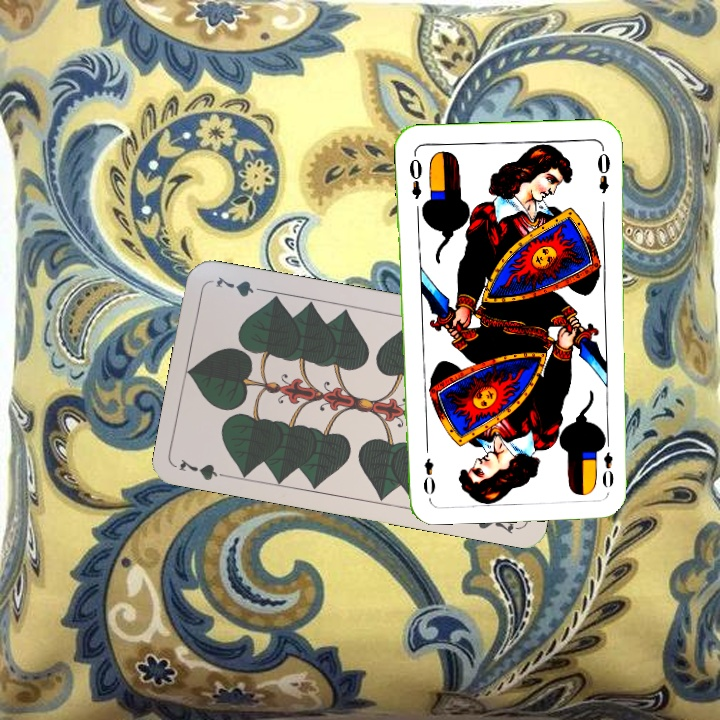EO: (596, 434, 617, 491), (405, 149, 425, 202)
G7: (176, 455, 235, 483)
